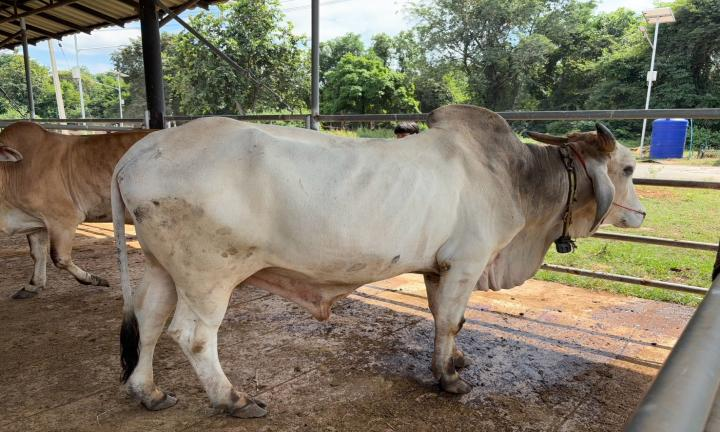Brahman: (111, 105, 644, 417)
